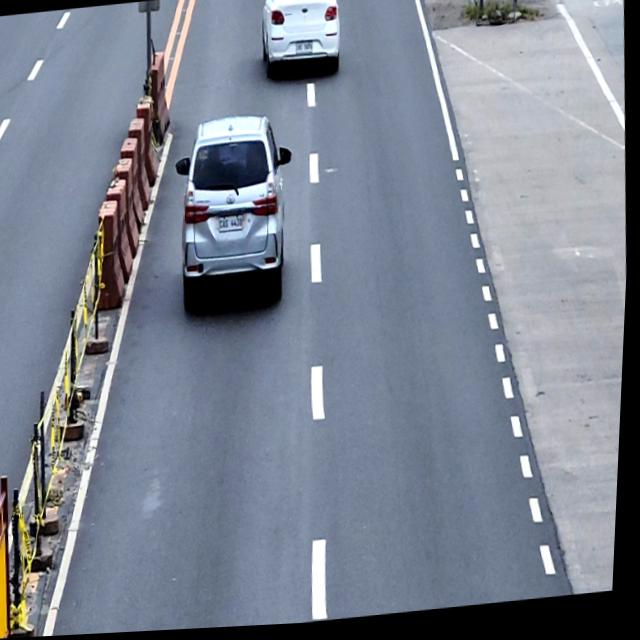Car: (170, 112, 304, 322), (253, 0, 348, 89)
License-Plate: (220, 216, 247, 234), (294, 43, 316, 61)
